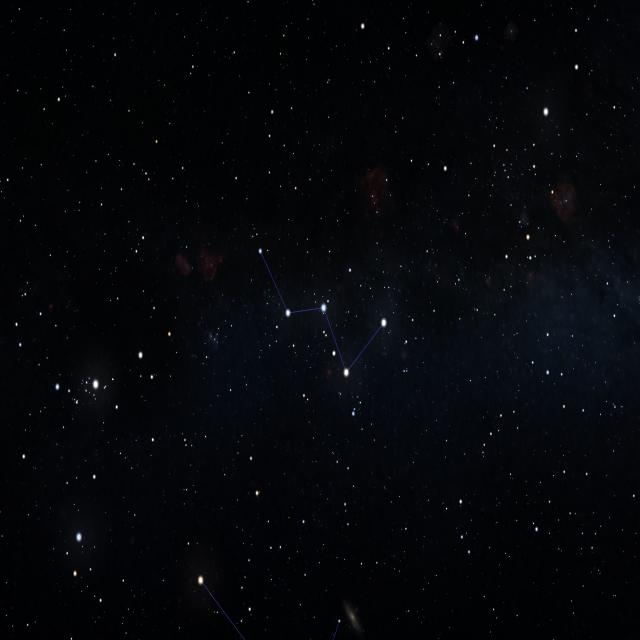Cassiopeia: (253, 243, 391, 384)
